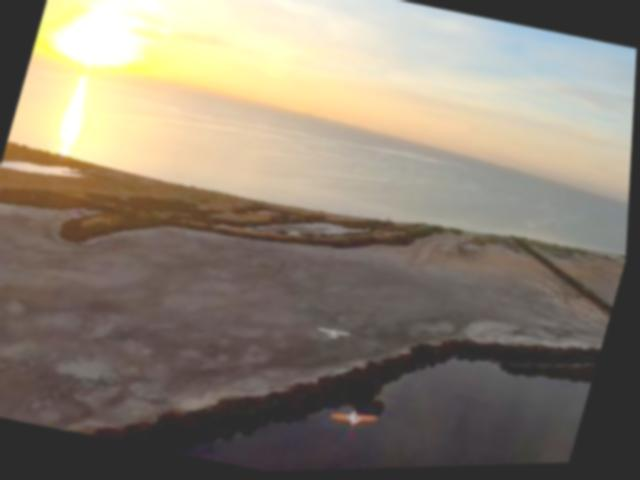uav: (332, 403, 384, 437), (319, 322, 355, 346)
